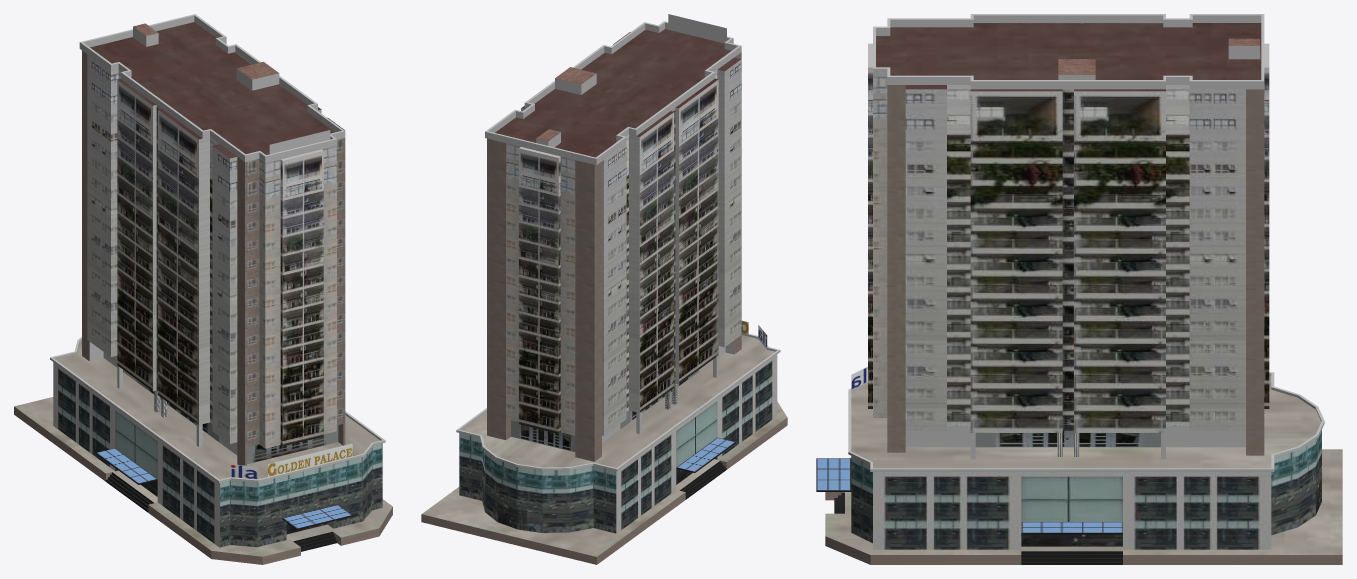
3 renders of one model, left to right at view 1: azimuth 30°, elevation 25°; view 2: azimuth 150°, elevation 25°; view 3: azimuth 270°, elevation 25°, orthographic. The views are drawn at different scales.
Parts seen in each view (by area): view 1: 5ff68574380f725a8751d5d7; view 2: 5ff68574380f725a8751d5d7; view 3: 5ff68574380f725a8751d5d7.
Boxes of the visible parts, left/top/right/bottom form: 5ff68574380f725a8751d5d7: left=14, top=14, right=392, bottom=564; 5ff68574380f725a8751d5d7: left=421, top=14, right=787, bottom=564; 5ff68574380f725a8751d5d7: left=816, top=14, right=1342, bottom=564.
Size of the model in its own units: 38.3 by 72.45 by 72.59.
1 material, 1 textured.
